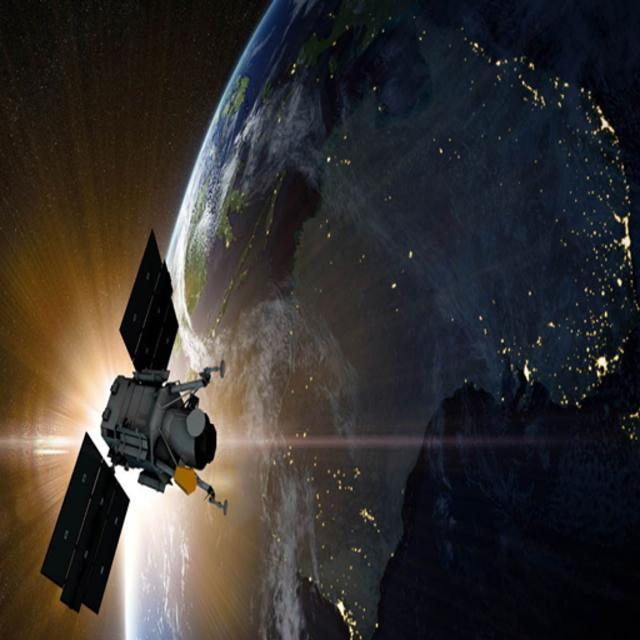sat: (37, 229, 234, 623)
